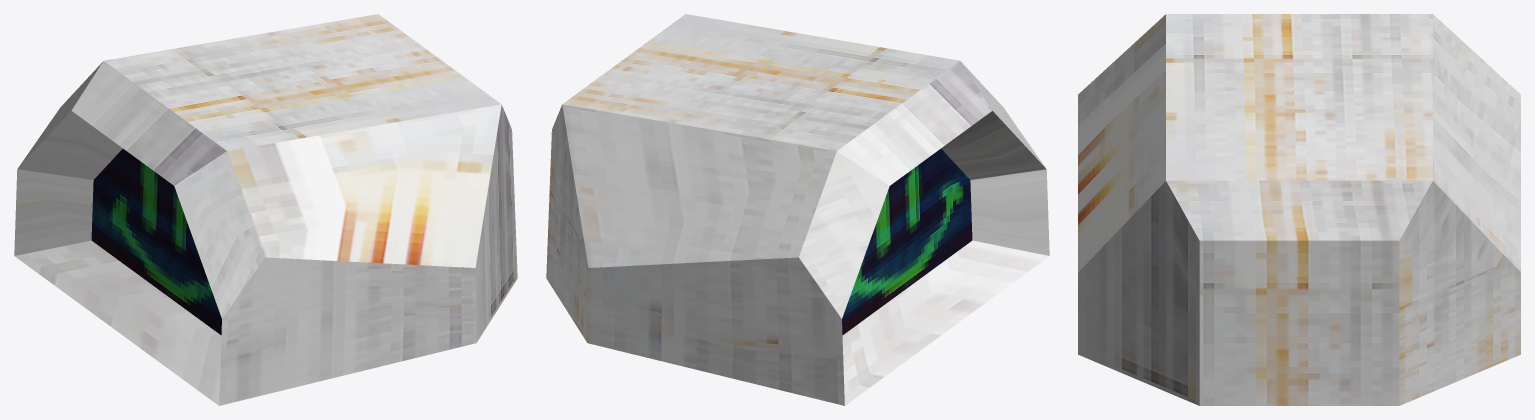
Rendered from robot_head_v1.fbx.
3 renders of one model, left to right at view 1: azimuth 30°, elevation 25°; view 2: azimuth 150°, elevation 25°; view 3: azimuth 270°, elevation 25°, orthographic. The views are drawn at different scales.
Visible parts, largest first — view 1: Cube.001; view 2: Cube.001; view 3: Cube.001.
Boxes of the visible parts, x1,y1,x2,y2 form: Cube.001: (14,14,517,405); Cube.001: (546,14,1049,405); Cube.001: (1078,14,1520,405).
Size of the model in its own units: 200 by 115 by 200.
Materials: 1 (1 with a texture image).
